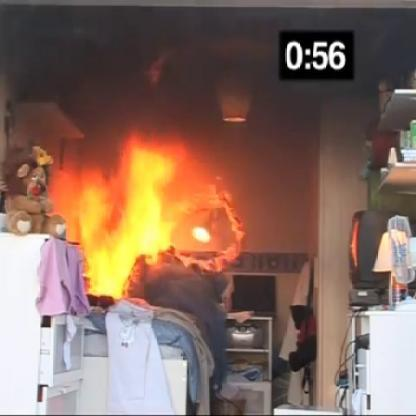fire: (71, 140, 179, 304), (184, 237, 248, 280), (173, 180, 233, 213)
smoke: (213, 89, 262, 127), (188, 223, 217, 250)
